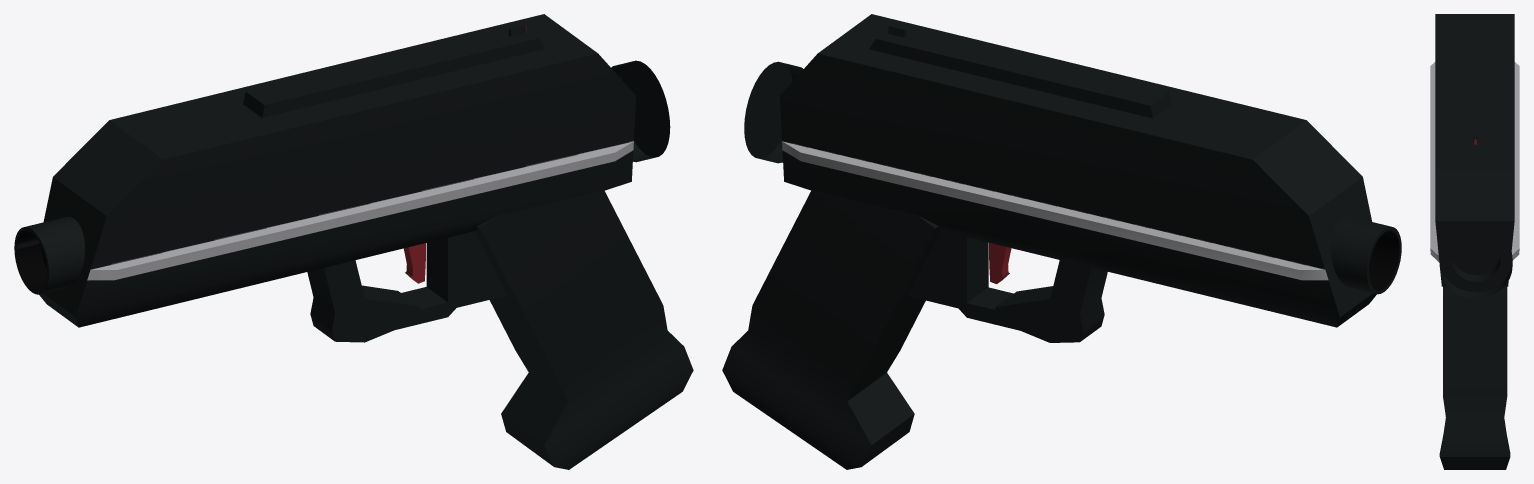
Rendered from blaster.fbx.
The picture shows the model from 3 angles, left to right: view 1: azimuth 30°, elevation 25°; view 2: azimuth 150°, elevation 25°; view 3: azimuth 270°, elevation 25°; orthographic projection. The views are drawn at different scales.
Parts seen in each view (by area): view 1: GunExportSetup; view 2: GunExportSetup; view 3: GunExportSetup.
Boxes of the visible parts, left/top/right/bottom form: GunExportSetup: left=14, top=14, right=693, bottom=469; GunExportSetup: left=722, top=14, right=1401, bottom=469; GunExportSetup: left=1430, top=14, right=1519, bottom=469.
Bounding box in the file's own units: 256 × 167 × 42.41.
1 material, 1 textured.
